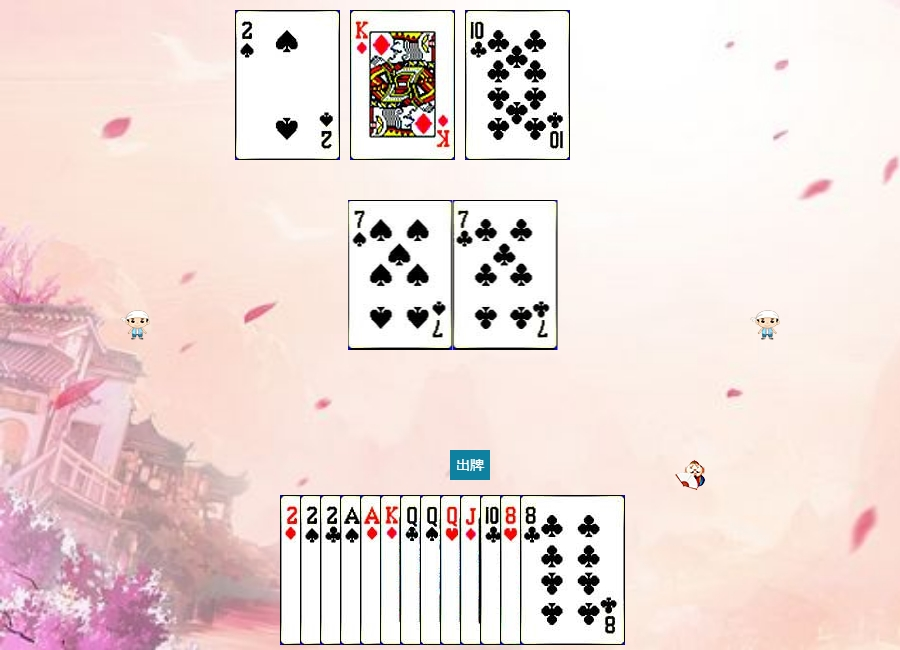10~2: (465, 10, 570, 160), (480, 495, 585, 645)
11~1: (460, 495, 565, 645)
12~2: (400, 495, 505, 645)
12~3: (440, 495, 545, 645)
12~4: (420, 495, 525, 645)
13~1: (350, 10, 455, 160), (380, 495, 485, 645)
14~1: (360, 495, 465, 645)
14~4: (340, 495, 445, 645)
15~1: (280, 495, 385, 645)
15~2: (320, 495, 425, 645)
15~4: (235, 10, 340, 160), (300, 495, 405, 645)
7~2: (453, 200, 558, 350)
7~4: (348, 200, 453, 350)
8~2: (520, 495, 625, 645)
8~3: (500, 495, 605, 645)
